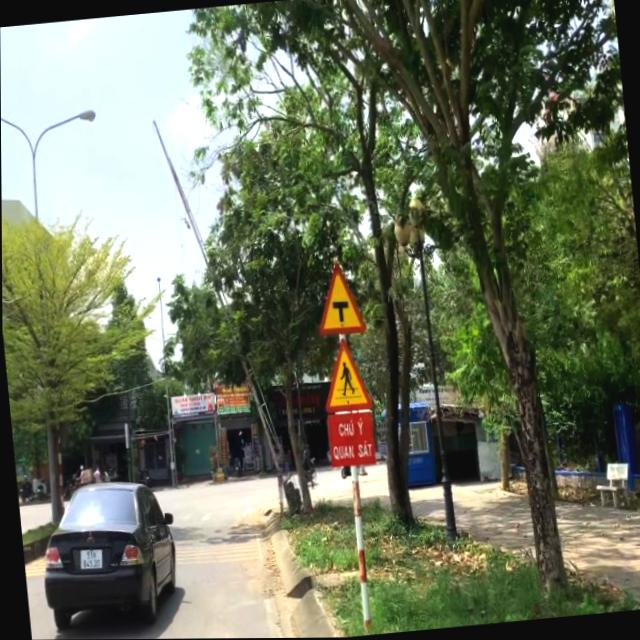Duong giao nhau cung cap: (311, 258, 367, 339)
Nguoi di bo cat ngang: (315, 333, 375, 415)
